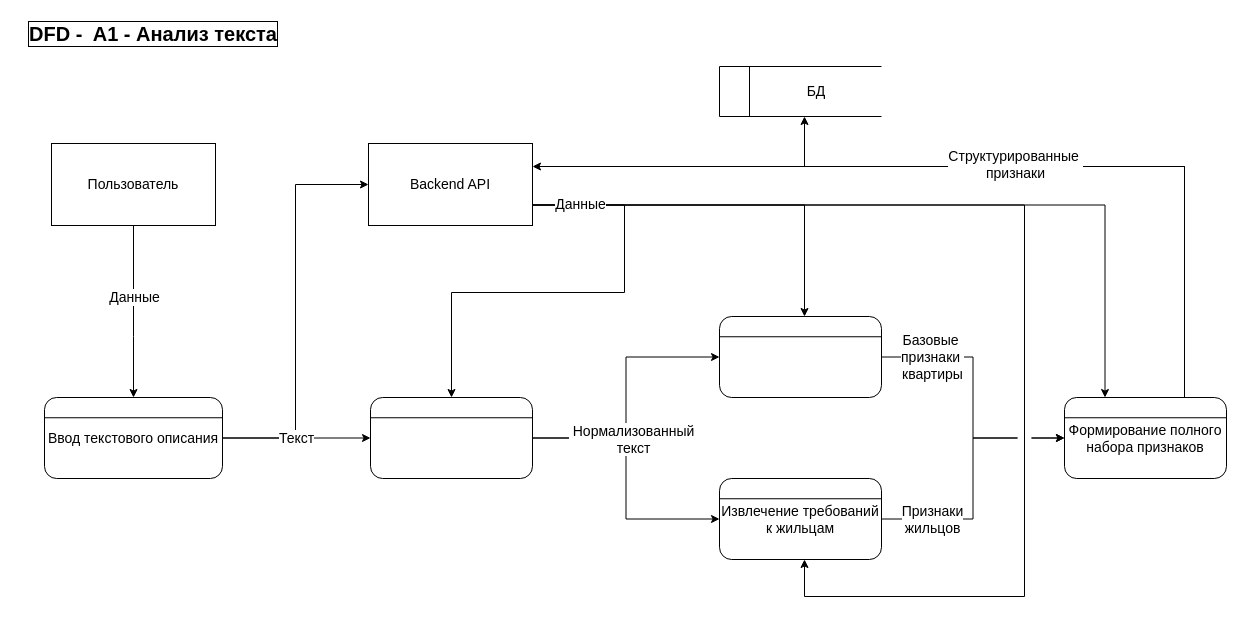
Some shapes in this 1245 by 622 pixel diagram are drawn without their labels. The shapes that lost their labels are listed below. From the top down, each one's centre as x and y in pixels, then its label:
[800,357]: NLP извлечение характеристик
[451,437]: Проверка и нормализация текста
